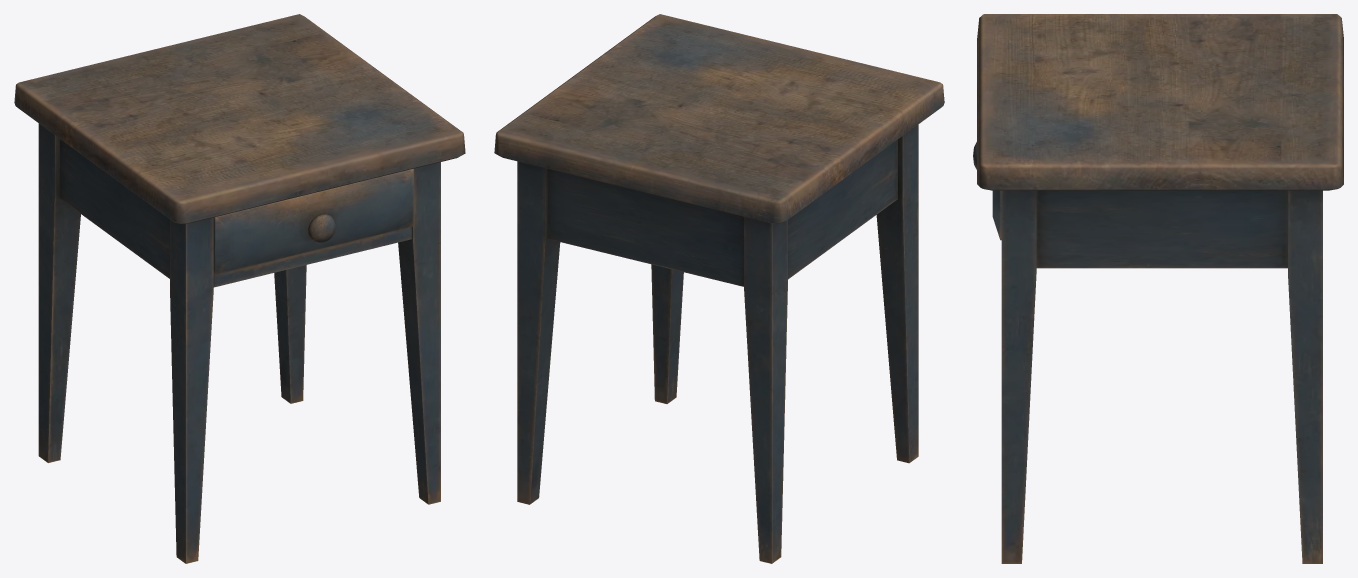
File: painted_wooden_nightstand.glb
3 views of the same model, side by side, from view 1: azimuth 30°, elevation 25°; view 2: azimuth 150°, elevation 25°; view 3: azimuth 270°, elevation 25° (orthographic). The views are drawn at different scales.
Visible parts, largest first — view 1: painted_wooden_nightstand; view 2: painted_wooden_nightstand; view 3: painted_wooden_nightstand.
Part boxes in pixels (x1=…): painted_wooden_nightstand: x1=14, y1=14, x2=465, y2=563; painted_wooden_nightstand: x1=494, y1=14, x2=944, y2=563; painted_wooden_nightstand: x1=973, y1=14, x2=1343, y2=563.
Size of the model in its own units: 0.5045 by 0.6155 by 0.5087.
Materials: 1 (1 with a texture image).
